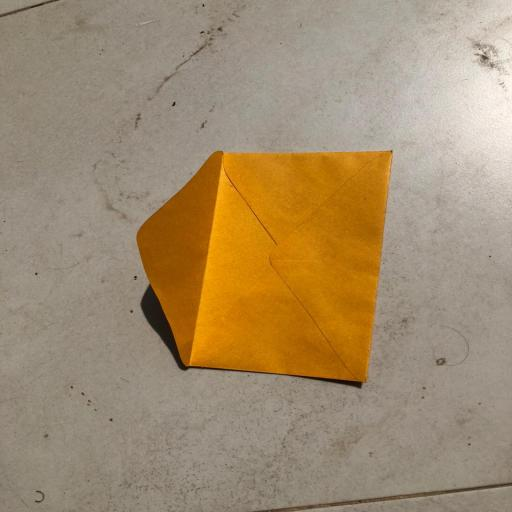waste: (106, 143, 418, 394)
